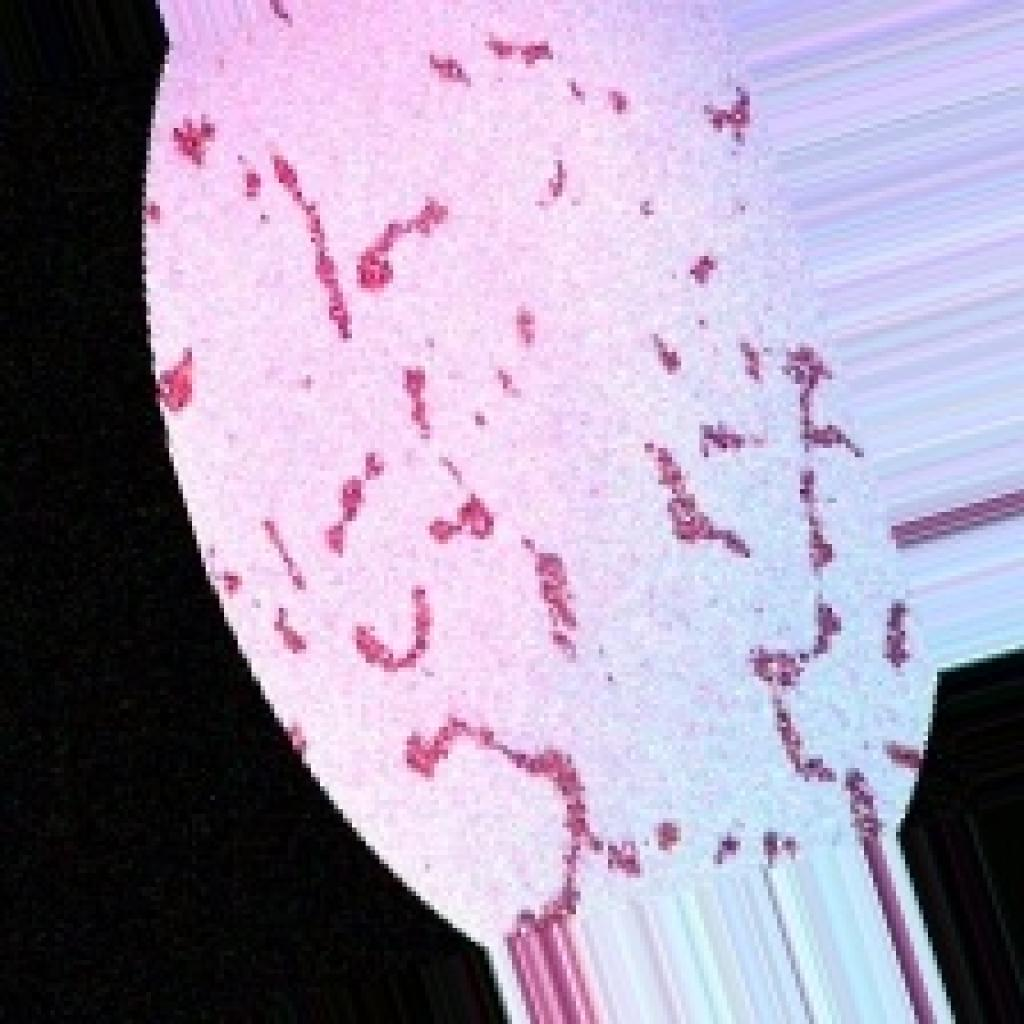Rodbacteria: (105, 0, 1014, 1019)
